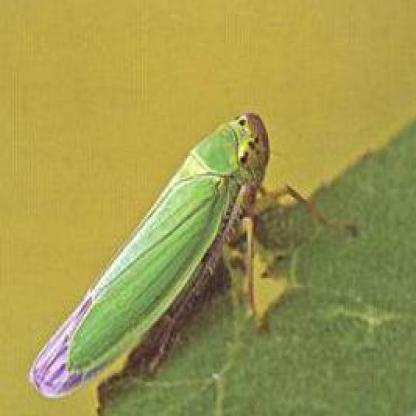Green-Leafhopper: (22, 103, 336, 416)
